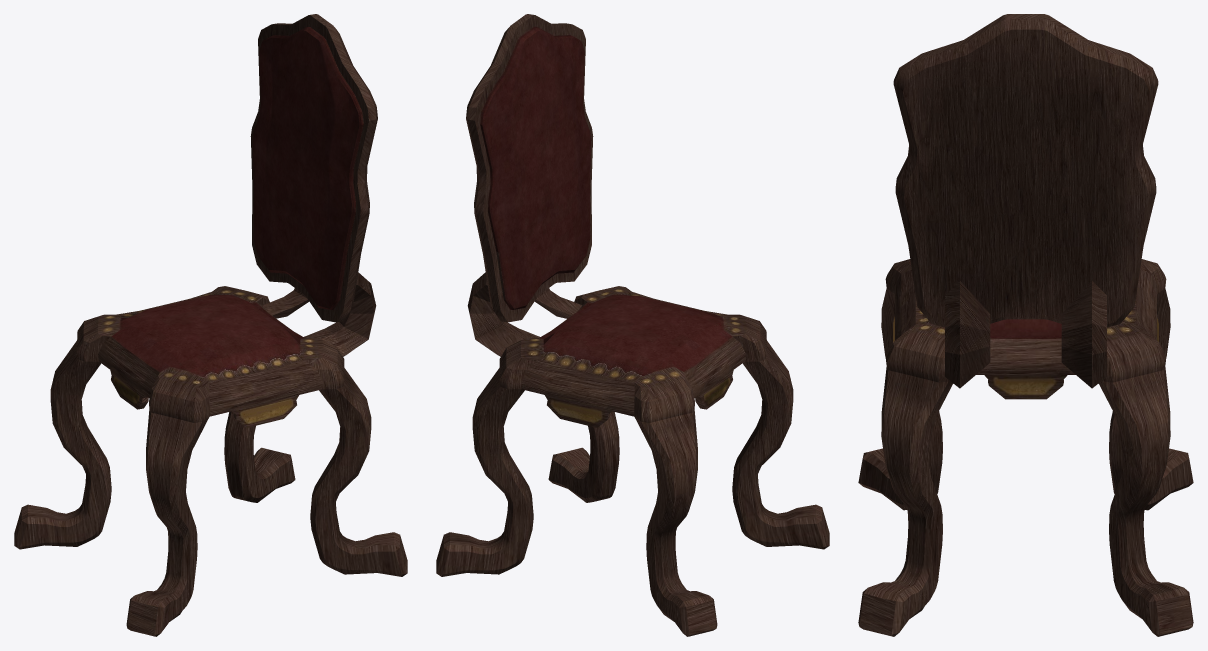
The model's file is victorian_chair.glb.
3 renders of one model, left to right at view 1: azimuth 30°, elevation 25°; view 2: azimuth 150°, elevation 25°; view 3: azimuth 270°, elevation 25°, orthographic. The views are drawn at different scales.
Parts seen in each view (by area): view 1: pCube10, pCube9; view 2: pCube10, pCube9; view 3: pCube9, pCube10.
Boxes of the visible parts, x1=… form: pCube10: x1=14, y1=286, x2=407, y2=636; pCube9: x1=250, y1=14, x2=377, y2=356; pCube10: x1=436, y1=286, x2=829, y2=636; pCube9: x1=466, y1=14, x2=593, y2=356; pCube9: x1=893, y1=14, x2=1158, y2=388; pCube10: x1=858, y1=259, x2=1193, y2=636.
Bounding box in the file's own units: 1.15 × 2 × 1.
Materials: 2 (2 with a texture image).
